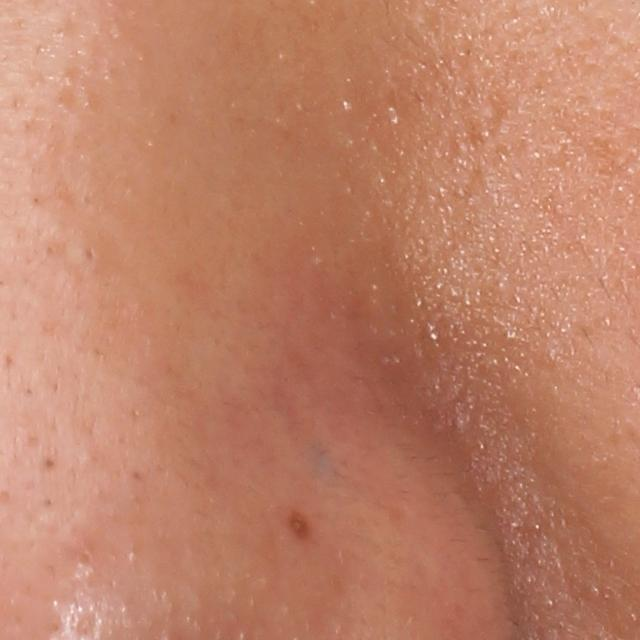comedo: (71, 548, 93, 570), (37, 455, 58, 473)
nevus: (278, 499, 312, 541)
